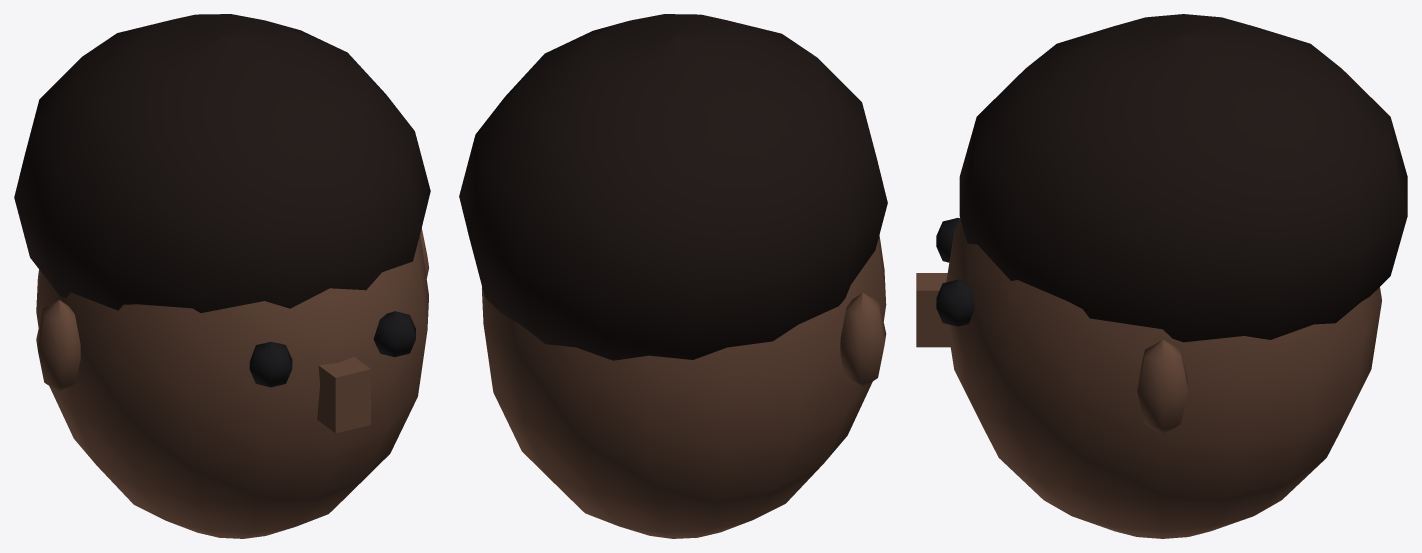
The model's file is head.obj.
The picture shows the model from 3 angles, left to right: view 1: azimuth 30°, elevation 25°; view 2: azimuth 150°, elevation 25°; view 3: azimuth 270°, elevation 25°; orthographic projection. The views are drawn at different scales.
Parts seen in each view (by area): view 1: head; view 2: head; view 3: head.
Boxes of the visible parts, left/top/right/bottom form: head: left=14, top=14, right=430, bottom=538; head: left=459, top=14, right=887, bottom=538; head: left=916, top=14, right=1407, bottom=538.
Bounding box in the file's own units: 0.2326 × 0.2728 × 0.2487.
